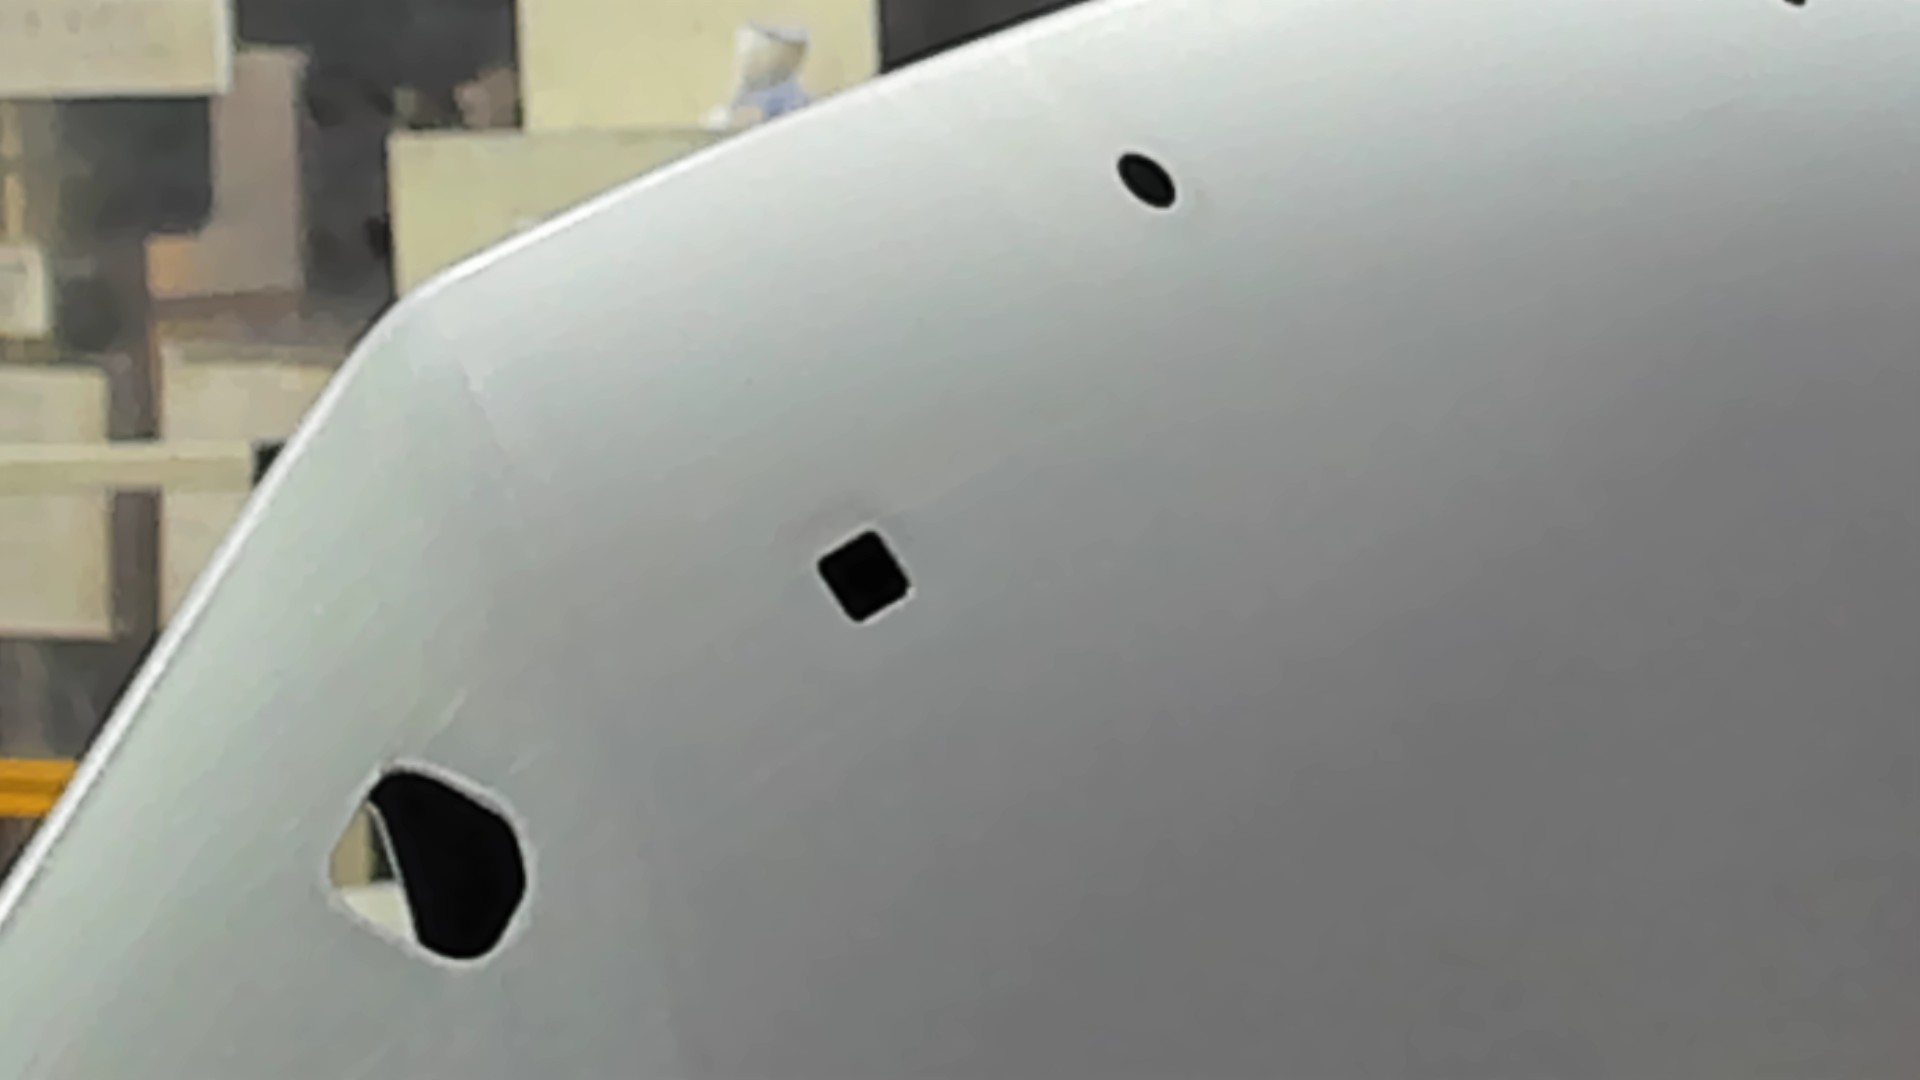capo: (930, 216, 1920, 1080)
chico: (1113, 146, 1179, 214)
grande: (314, 754, 542, 971)
mediano: (807, 520, 920, 636)
